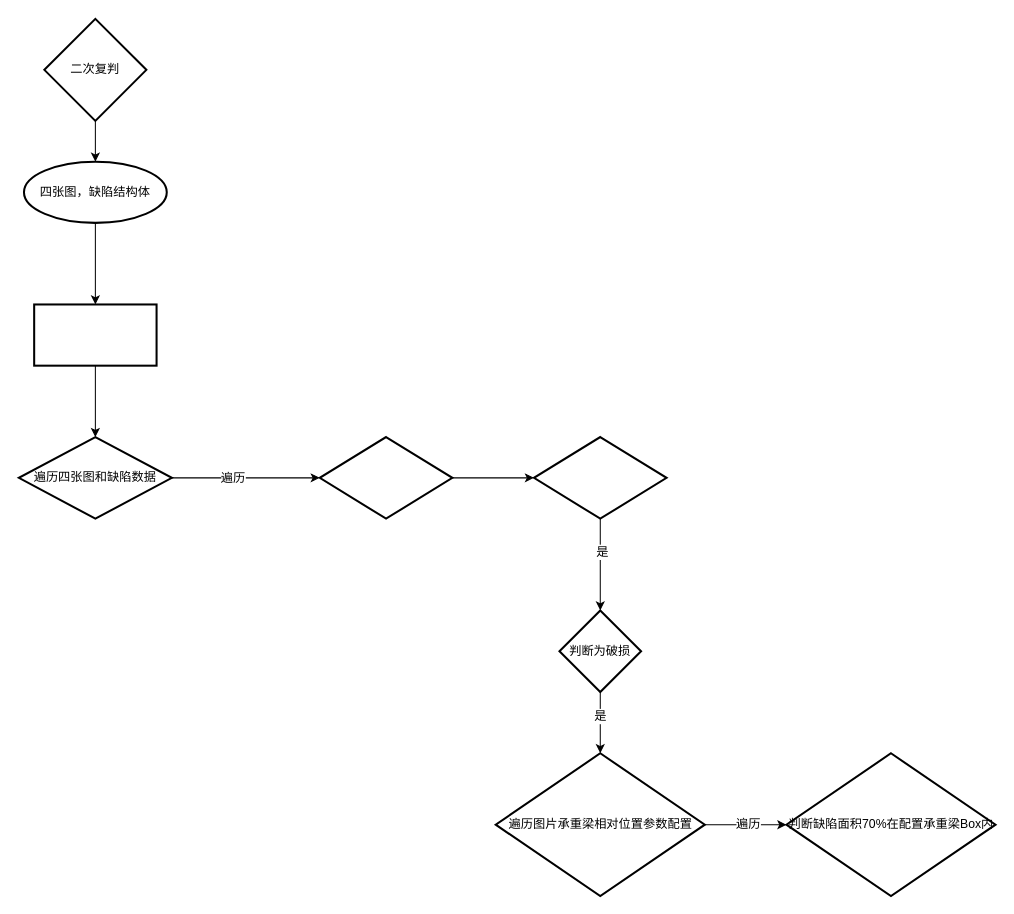
The diagram is 1014 pixels wide and 914 high, and some of its shapes have lost their labels. Here are the shapes that lost their labels. From the top down, the centre of each, then its label:
At (x=95, y=334): "设置图片相对偏移量".
At (x=385, y=477): "遍历缺陷数据".
At (x=599, y=477): "判断面积>0".
